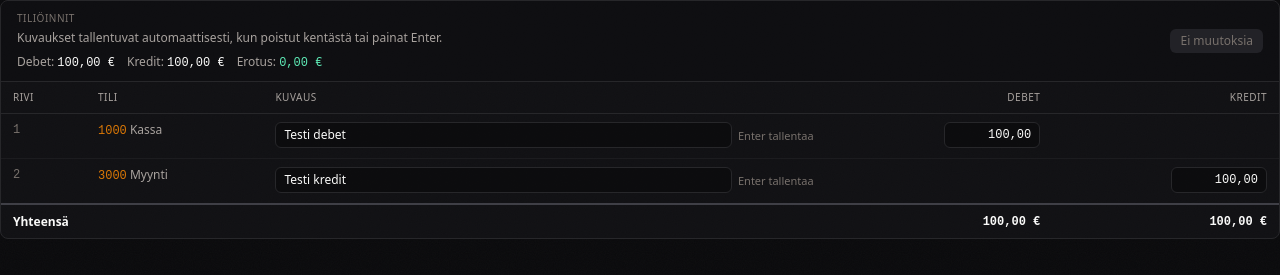
Scenario: DocumentEntriesEditor › shows error when description save fails
The width and height of the screenshot is (1280, 275).
Replace the text in the 1st field showing "Testi debet" with "Fail" at (504, 135), box [275,122,732,148]
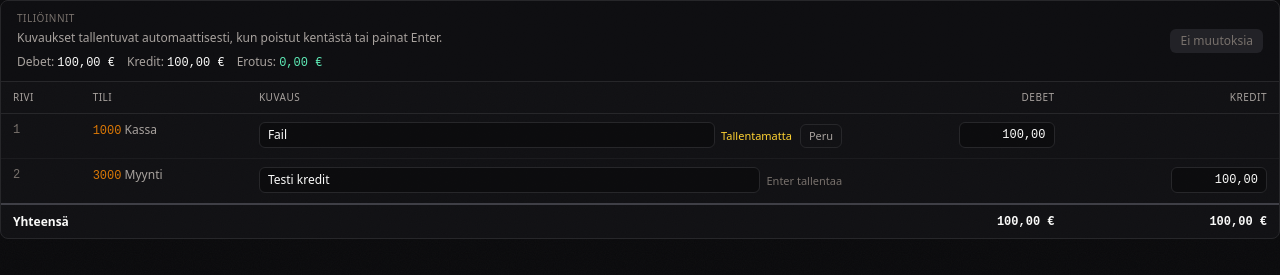
Leave the field showing "Testi debet" next to "Tallentamatta", box [259,122,715,148]
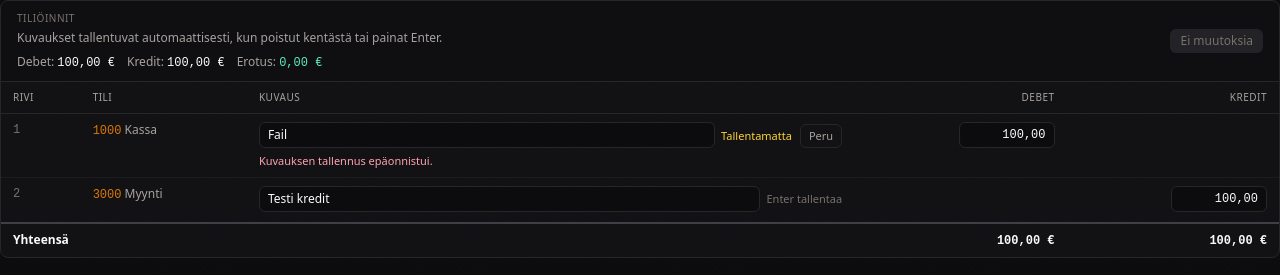
Expected: the text "Kuvauksen tallennus epäonnistui." is shown, [259,153,433,168]
